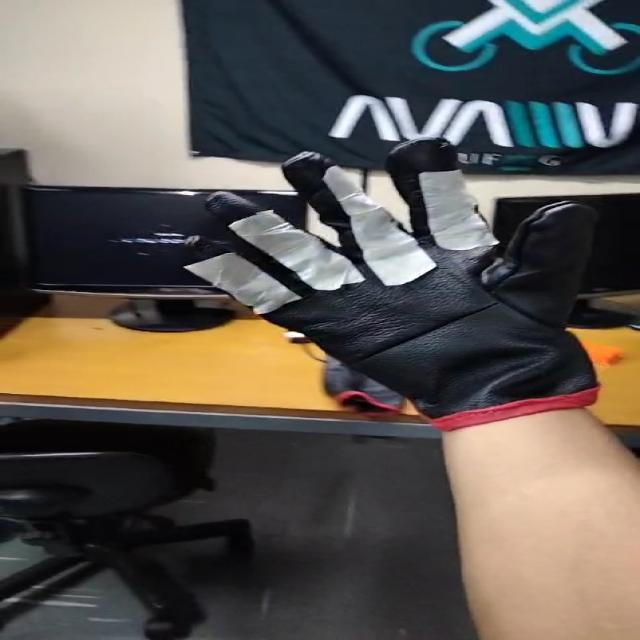Gloves: (174, 140, 640, 412)
